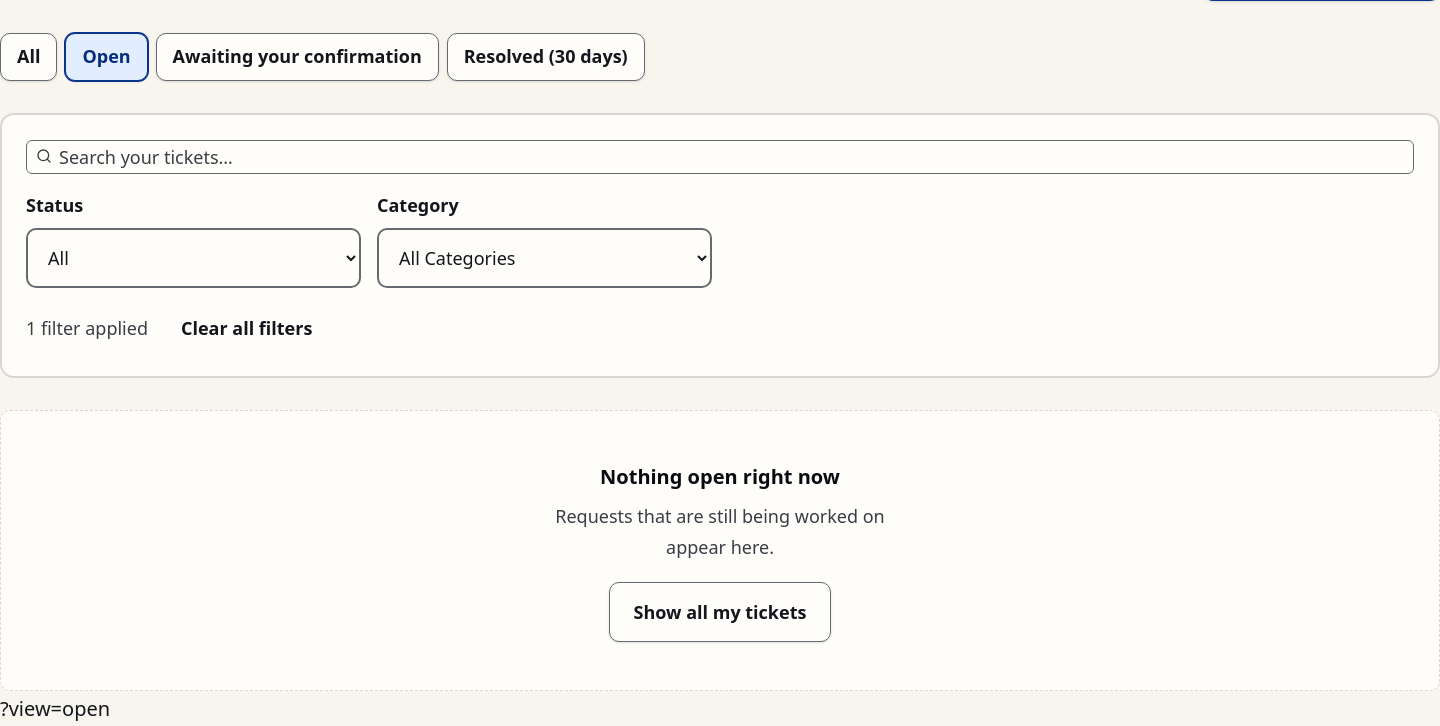
Test: MyTicketsPage — saved views › says what an empty open view means, and offers the way back
(page scrolled)
Expected: the text "Nothing open right now" is shown, x1=600 y1=459 x2=840 y2=495
What coordinates should you click on to do the following:
click the button "Show all my tickets"
I would click on:
 (720, 612)
Its box is x1=609 y1=582 x2=832 y2=642.
(page scrolled)
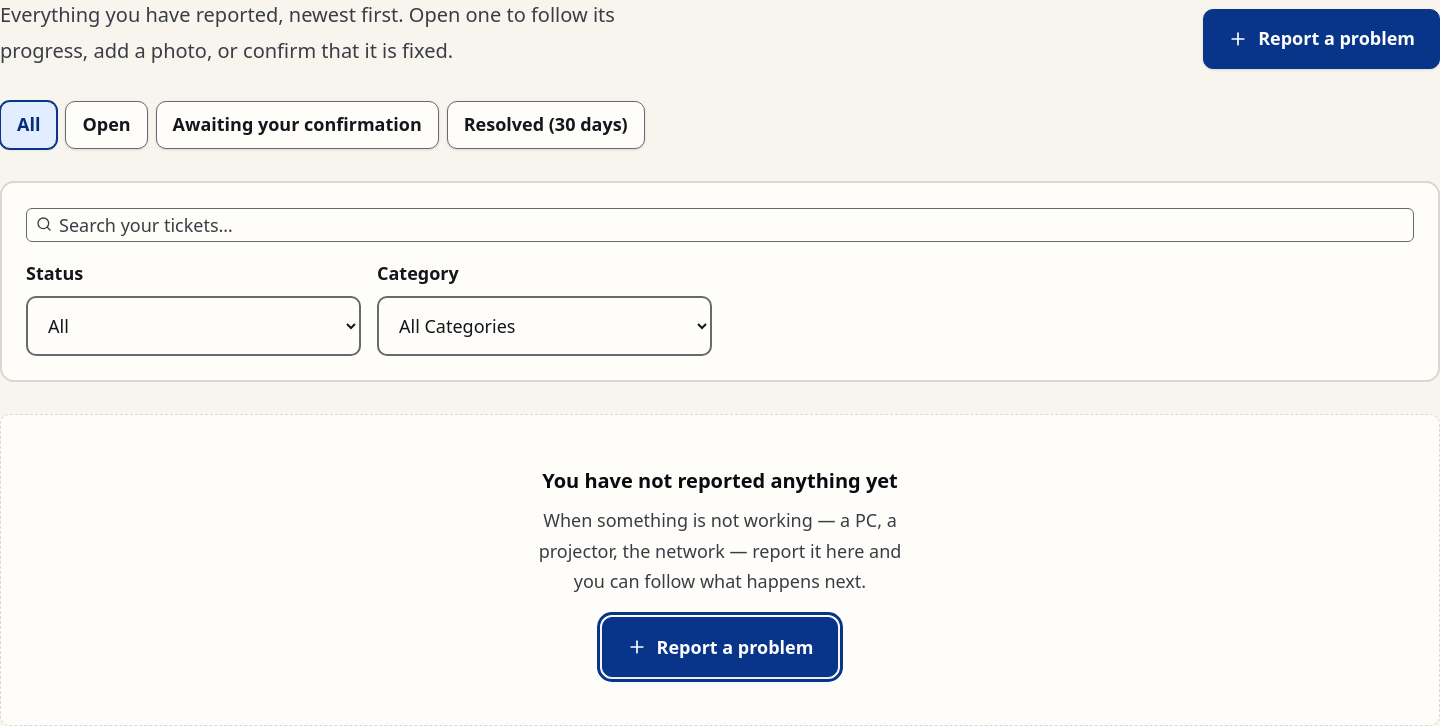
Now the text "You have not reported anything yet" is shown, box x1=542 y1=463 x2=898 y2=499
